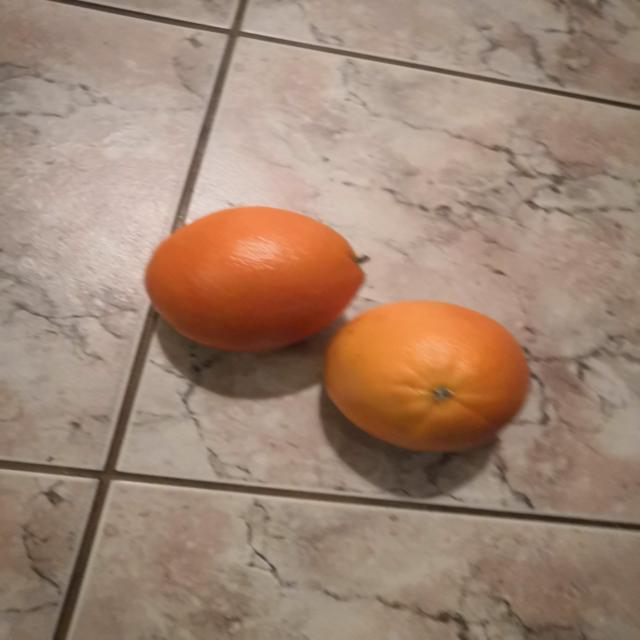orange: (145, 206, 363, 351), (325, 301, 528, 451)
